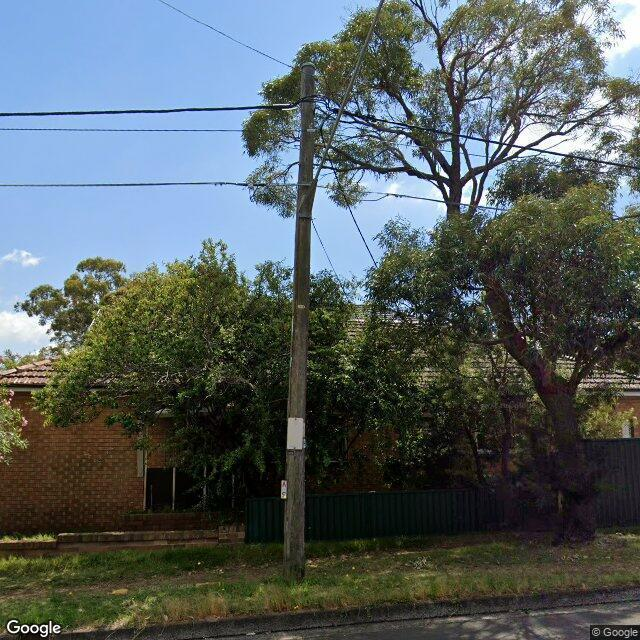timber-pole: (282, 59, 316, 586)
